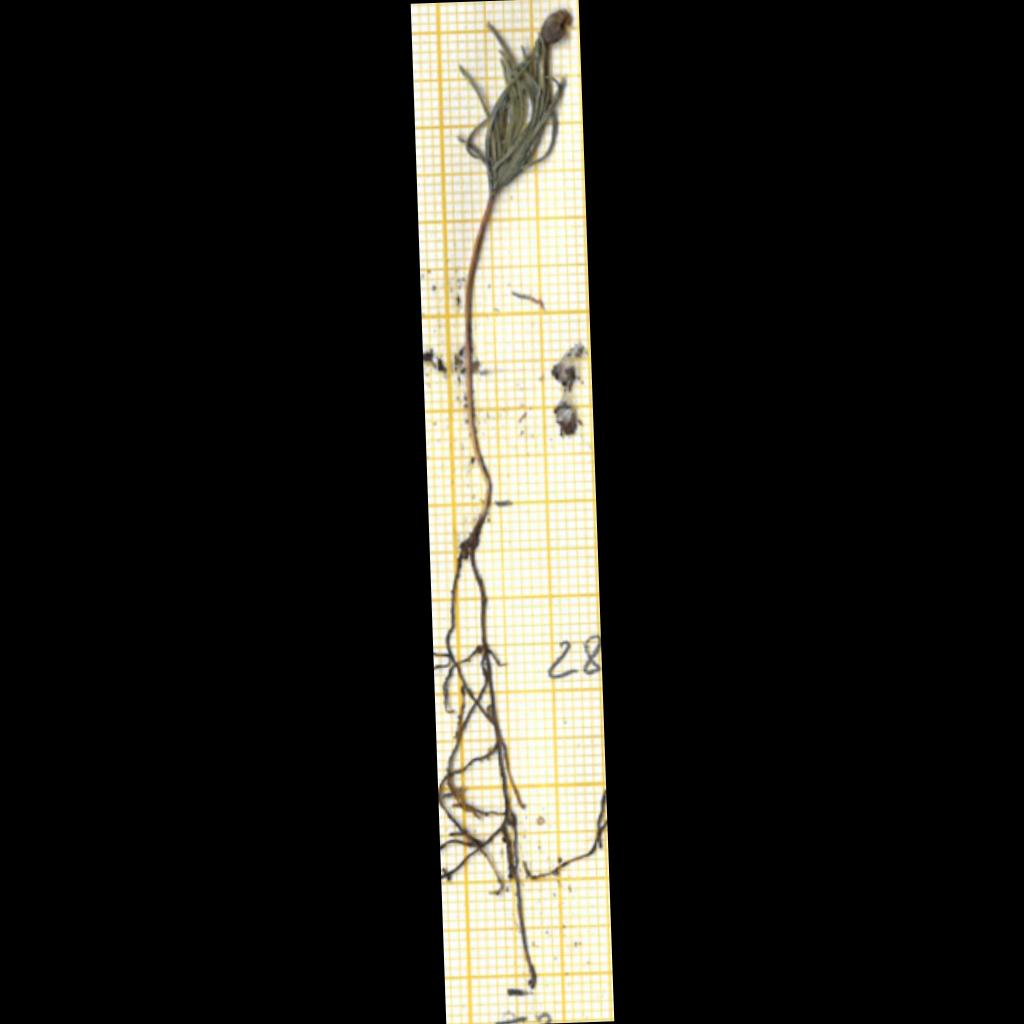flowerPinus: (465, 10, 569, 196)
rootPinus: (438, 519, 536, 988)
stemPinus: (465, 195, 494, 512)
